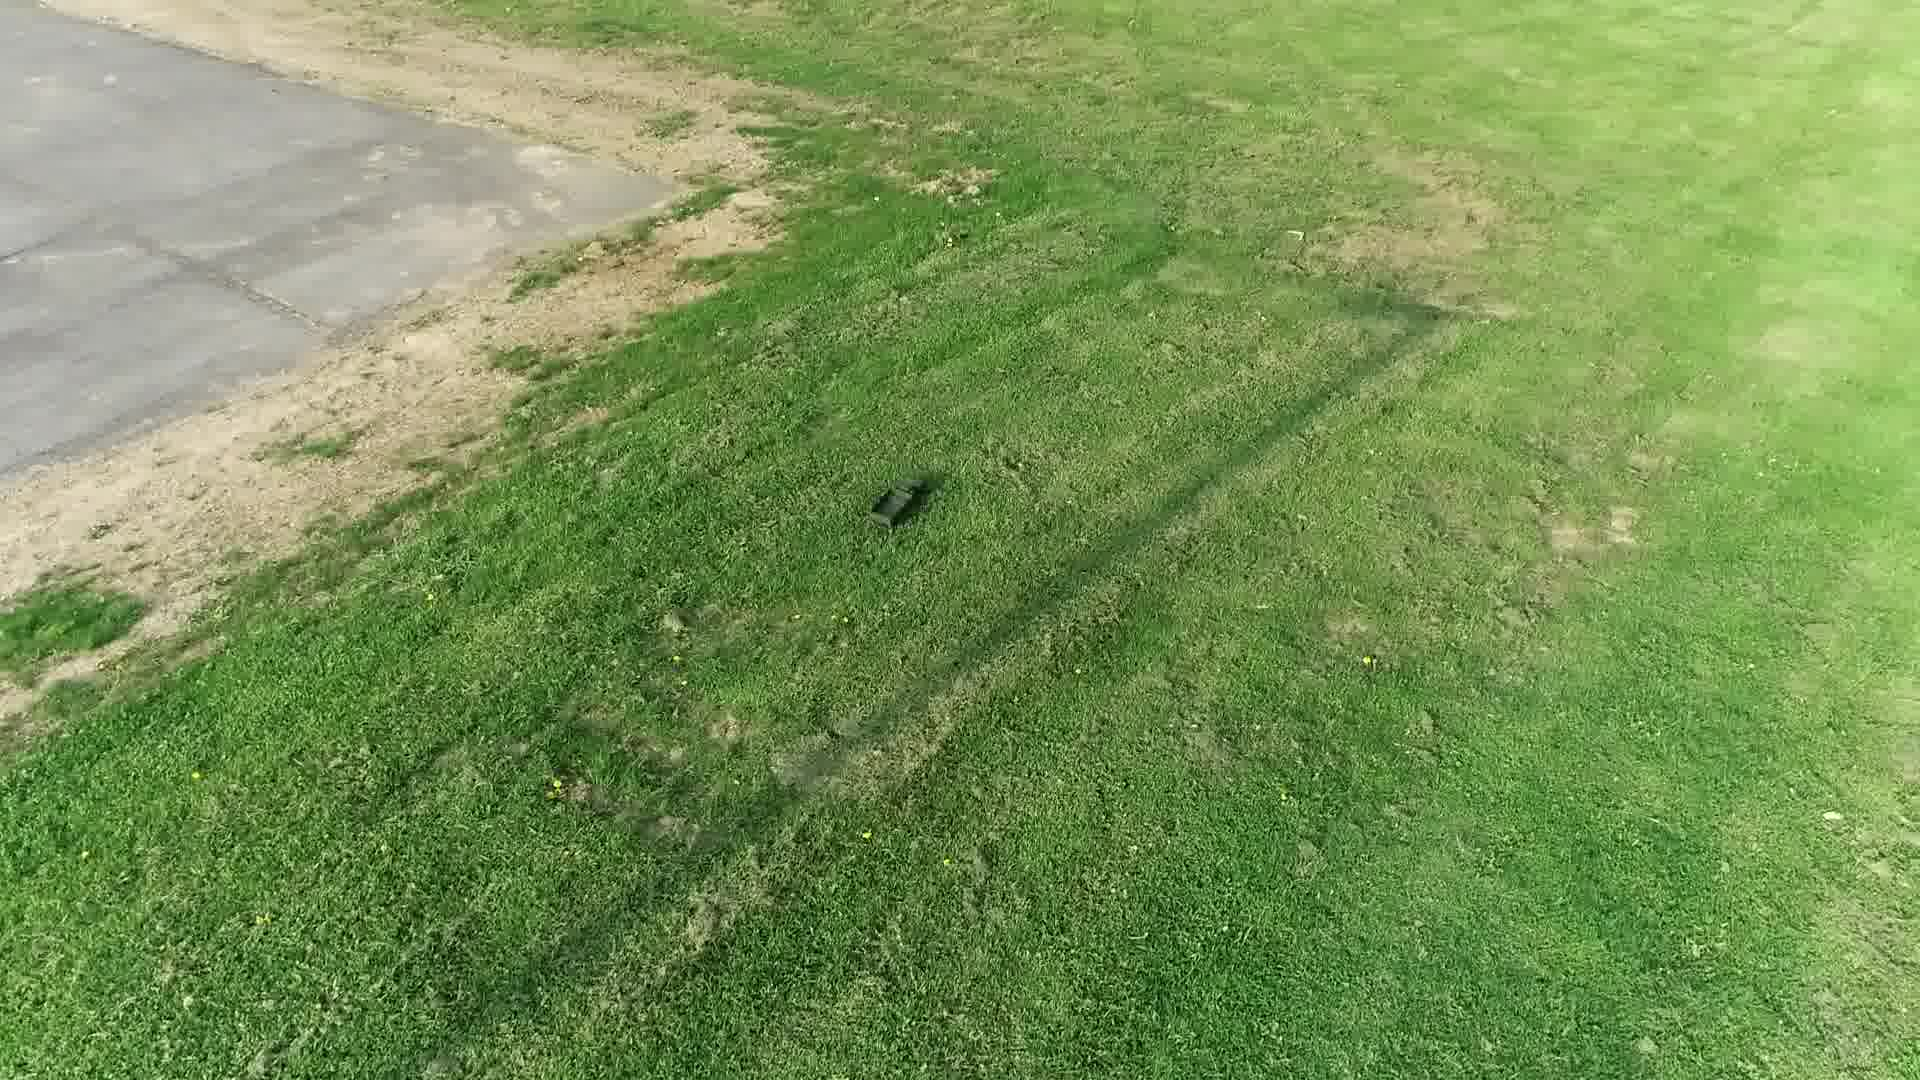transporter9: (865, 471, 930, 533)
